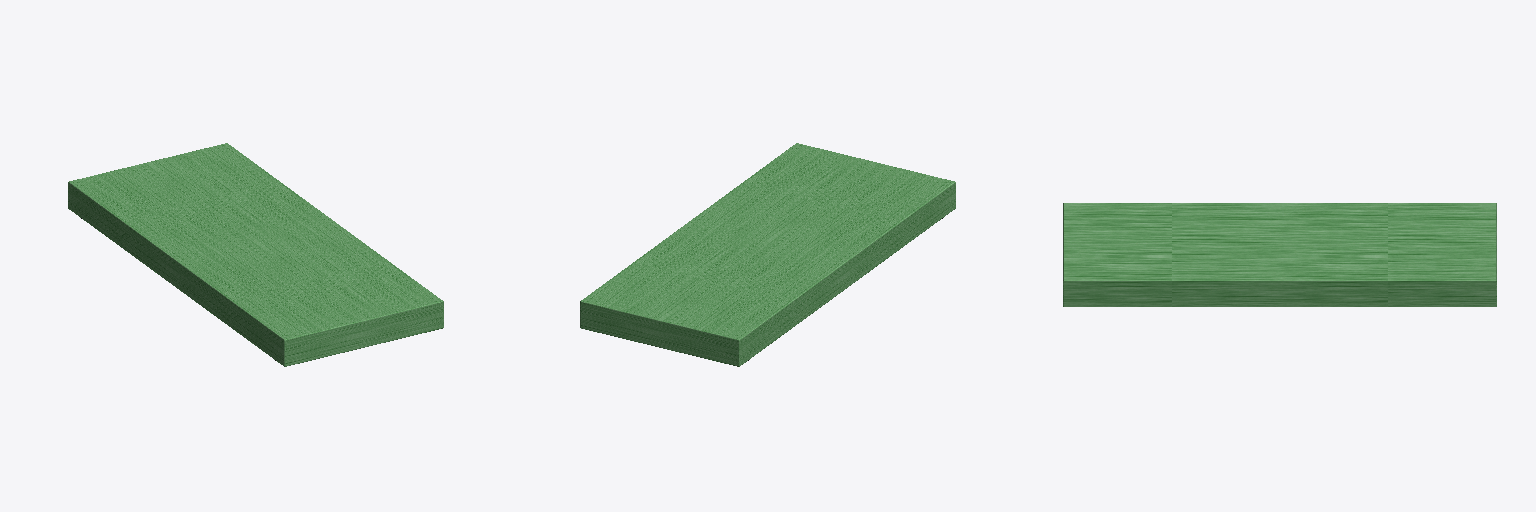
3 views of the same model, side by side, from view 1: azimuth 30°, elevation 25°; view 2: azimuth 150°, elevation 25°; view 3: azimuth 270°, elevation 25° (orthographic).
Visible parts, largest first — view 1: pp52_stell; view 2: pp52_stell; view 3: pp52_stell.
Part boxes in pixels (x1,y1,x2,y2): pp52_stell: (68, 143, 443, 366); pp52_stell: (580, 143, 955, 366); pp52_stell: (1063, 203, 1496, 306).
Bounding box in the file's own units: 85 × 15 × 200.
Materials: 2 (1 with a texture image).